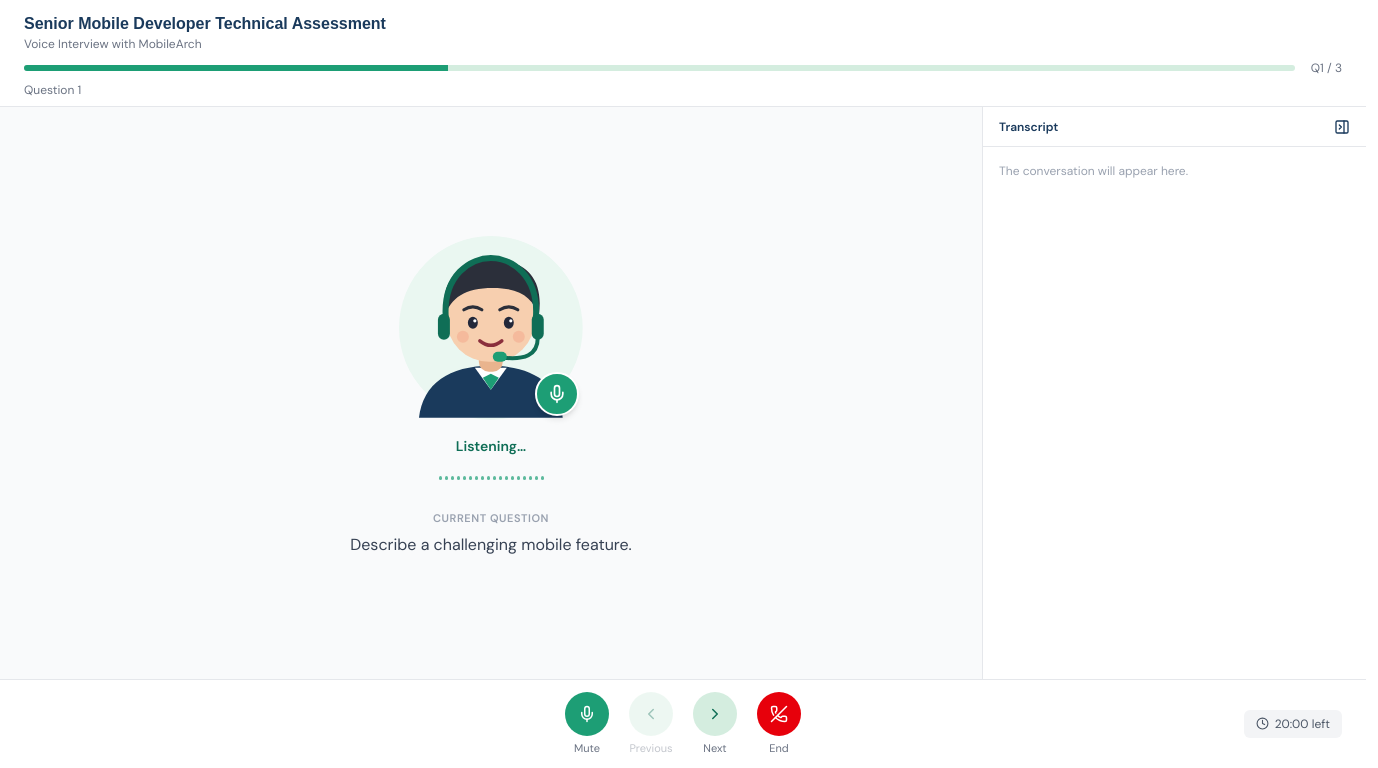
Test: regular question screen › the transcript panel collapses and expands
Expected: the text "Transcript" is shown, [999,118,1058,134]
Click the button "Transcript" at (1029, 126), box [983,107,1366,147]
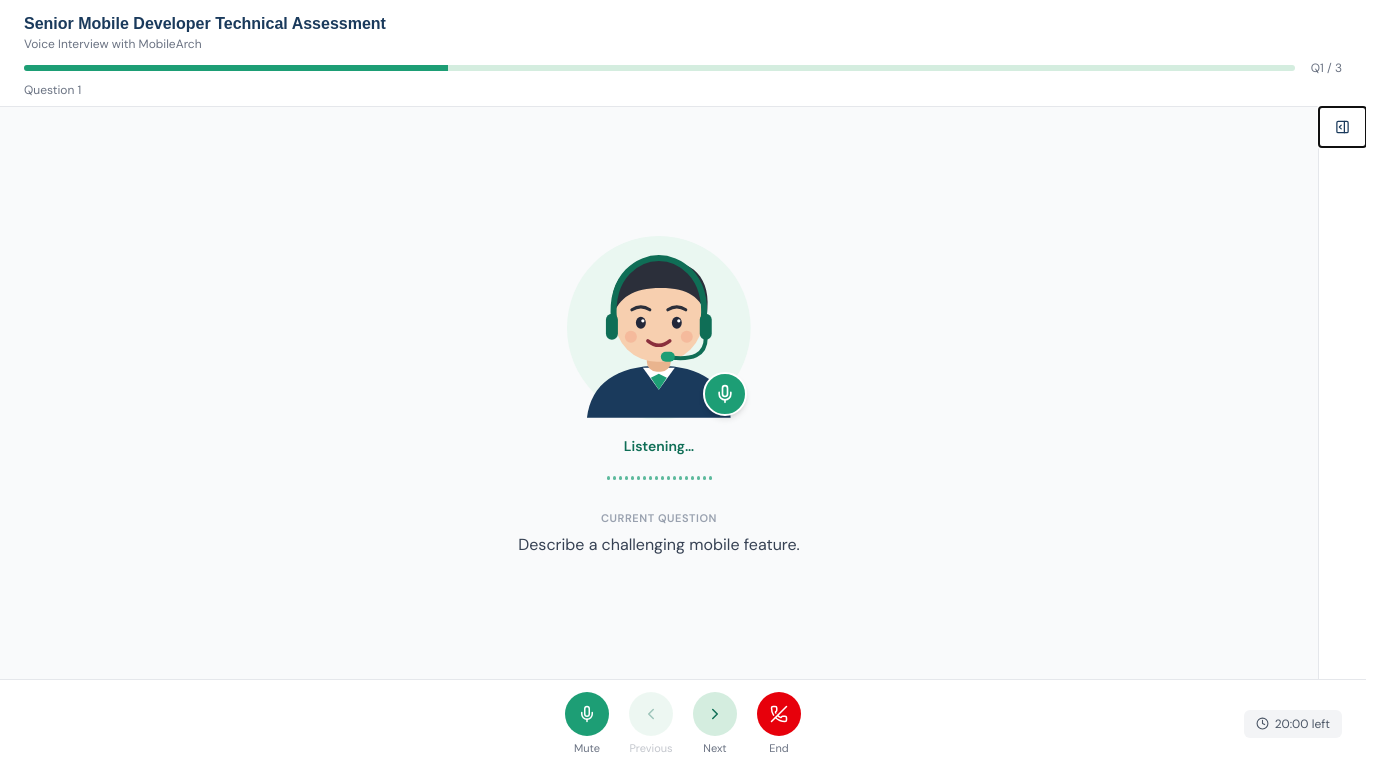
Expected: the text "Transcript" is gone
